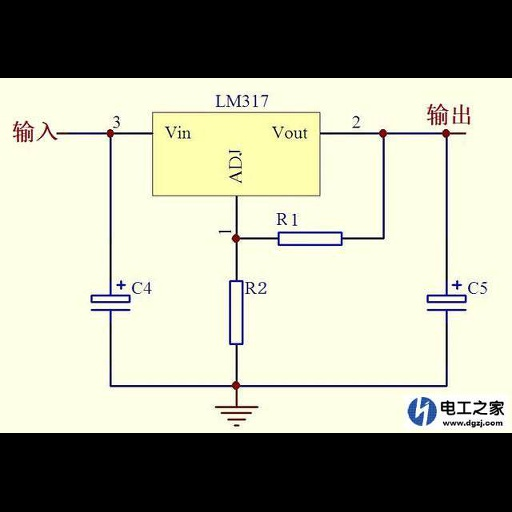firstpolarcapacitor: (418, 277, 469, 320), (85, 278, 132, 316)
firstresistance: (272, 230, 349, 251), (223, 276, 245, 347)
gnd: (205, 405, 266, 427)
